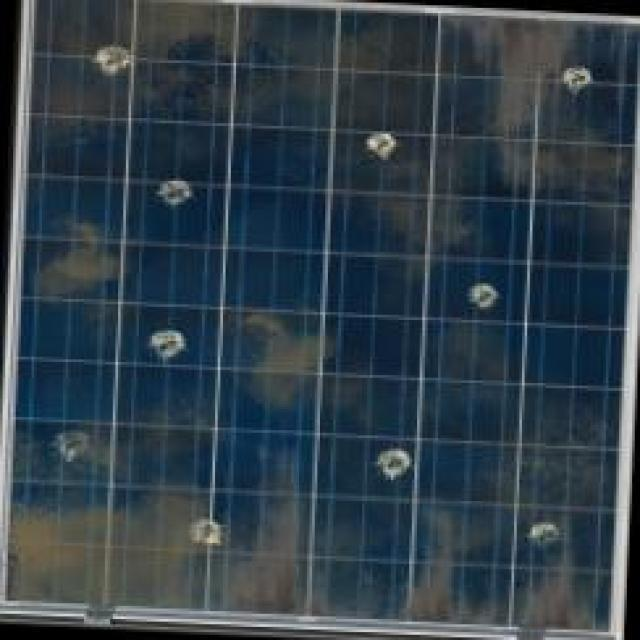Dusty: (21, 497, 195, 607), (449, 11, 556, 176), (233, 297, 347, 409), (31, 219, 131, 304), (505, 439, 611, 513), (249, 491, 314, 611), (136, 5, 263, 65), (410, 497, 467, 624), (437, 316, 508, 393), (528, 558, 590, 631)
Physical-damage: (142, 312, 204, 377), (138, 174, 217, 222), (443, 263, 520, 311), (362, 439, 438, 483), (45, 426, 107, 476), (348, 122, 415, 168), (81, 37, 135, 87), (558, 49, 602, 109), (522, 513, 574, 554), (198, 513, 228, 555)
